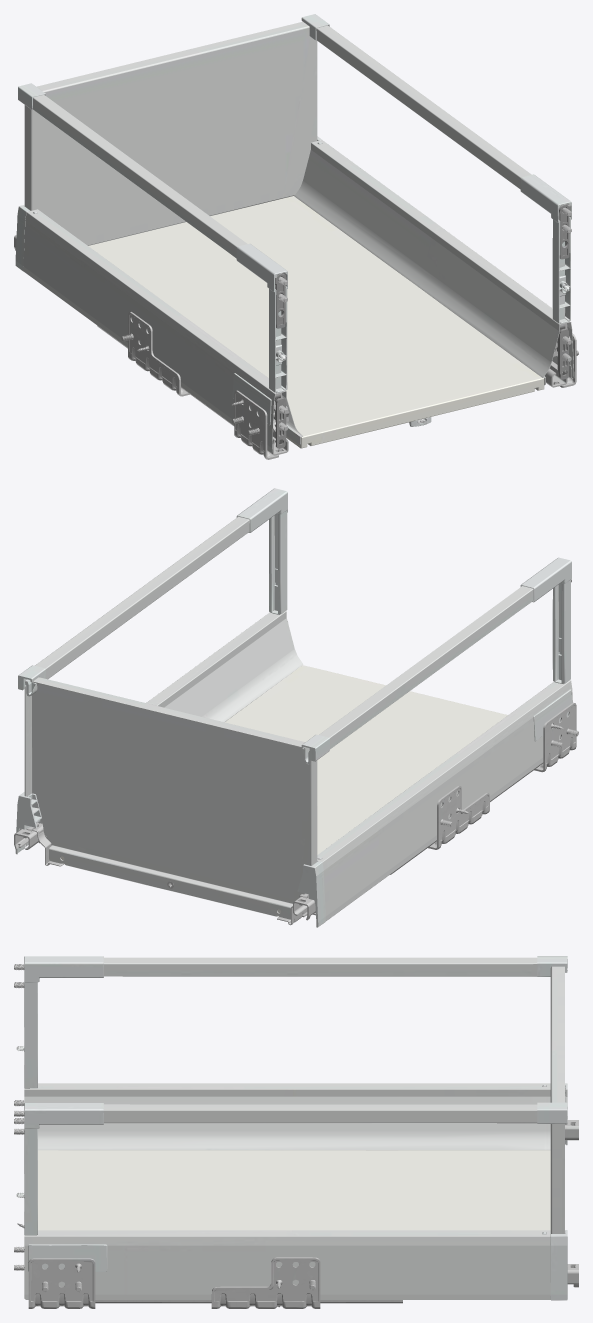
Rendered from maximera-00285022-rqp3.glb.
The picture shows the model from 3 angles, top to bottom: view 1: azimuth 30°, elevation 25°; view 2: azimuth 150°, elevation 25°; view 3: azimuth 270°, elevation 25°; orthographic projection. The views are drawn at different scales.
Visible parts, largest first — view 1: 00285022-MAXIMERA001; view 2: 00285022-MAXIMERA001; view 3: 00285022-MAXIMERA001.
Part boxes in pixels (x1,y1,x2,y2): 00285022-MAXIMERA001: (14,14,578,459); 00285022-MAXIMERA001: (14,488,578,927); 00285022-MAXIMERA001: (14,956,578,1308).
Size of the model in its own units: 0.3914 by 0.2106 by 0.5409.
Materials: 1 (1 with a texture image).
